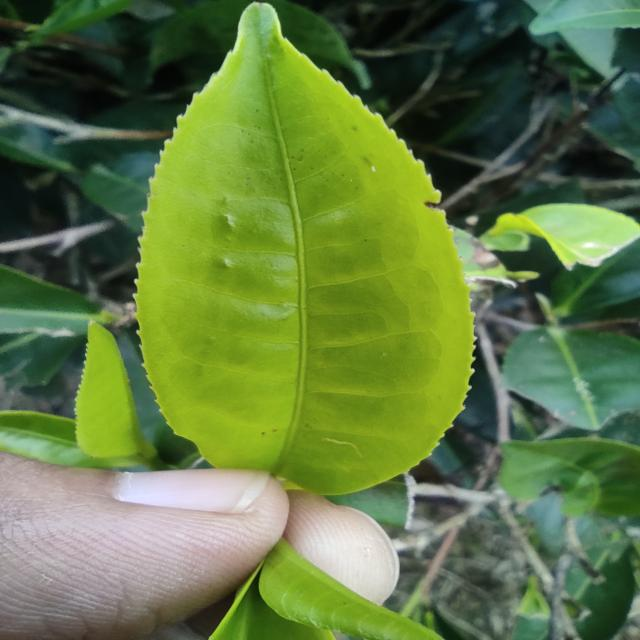Category C 4-7 days: (104, 0, 487, 505)
